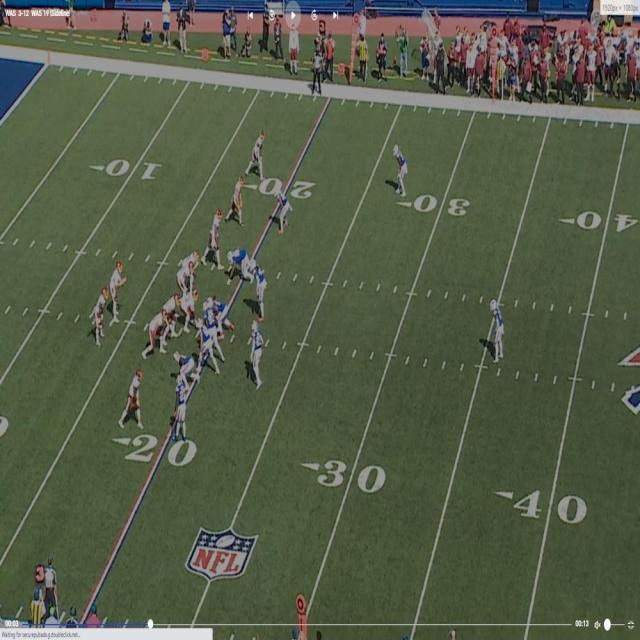center: (181, 293, 199, 325)
db: (176, 374, 188, 443), (252, 317, 264, 385), (490, 300, 501, 360), (391, 143, 404, 192)
lb: (200, 319, 213, 373), (250, 261, 265, 305)
qb: (109, 261, 123, 320)
skill: (122, 371, 143, 425), (248, 129, 266, 176), (93, 288, 108, 342), (208, 210, 226, 253), (273, 185, 289, 229), (230, 178, 247, 219)
